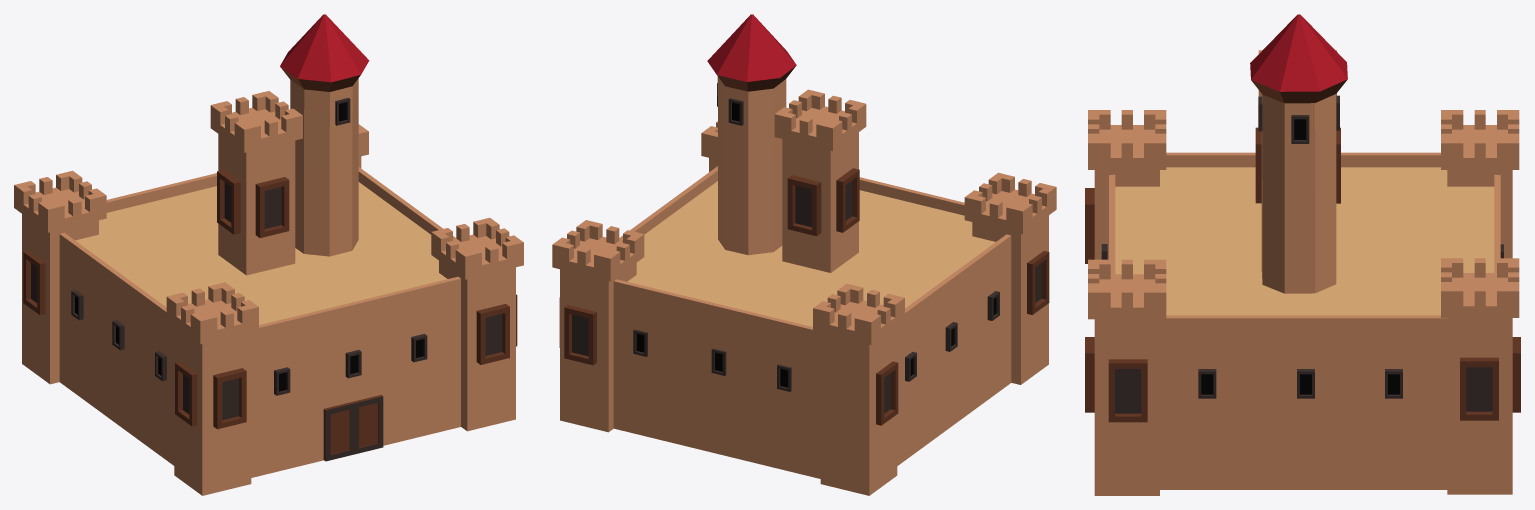
Rendered from level4.fbx.
3 renders of one model, left to right at view 1: azimuth 30°, elevation 25°; view 2: azimuth 150°, elevation 25°; view 3: azimuth 270°, elevation 25°, orthographic. The views are drawn at different scales.
Visible parts, largest first — view 1: Cube.001; view 2: Cube.001; view 3: Cube.001.
Part boxes in pixels (x1,y1,x2,y2): Cube.001: (14, 14, 523, 495); Cube.001: (552, 14, 1056, 495); Cube.001: (1085, 14, 1520, 495).
Bounding box in the file's own units: 1335 × 1429 × 1335.
